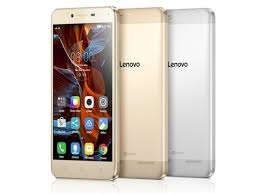lenovo: (49, 3, 121, 182)
